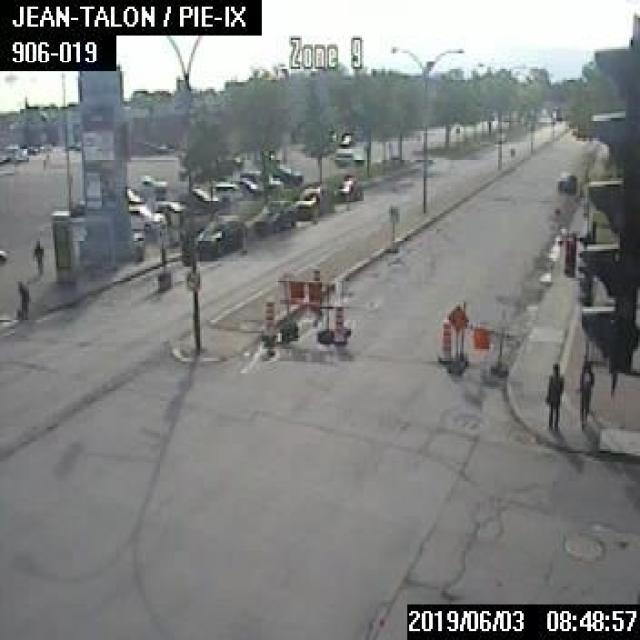construction: (446, 300, 509, 372), (437, 319, 451, 362), (260, 298, 274, 340), (333, 303, 346, 344)
pedestrian: (576, 353, 593, 427), (544, 360, 562, 429), (30, 238, 44, 276), (15, 278, 27, 318)
vehicle: (274, 267, 334, 343), (192, 211, 244, 254), (252, 197, 296, 233), (292, 185, 332, 216), (127, 202, 167, 228), (238, 169, 283, 191), (331, 174, 362, 200), (130, 174, 165, 194), (190, 187, 217, 210), (228, 175, 256, 196), (270, 166, 302, 184), (332, 148, 363, 166), (157, 200, 186, 217), (556, 171, 578, 193), (211, 182, 237, 200), (124, 186, 144, 204), (337, 133, 354, 145), (0, 245, 5, 263)
